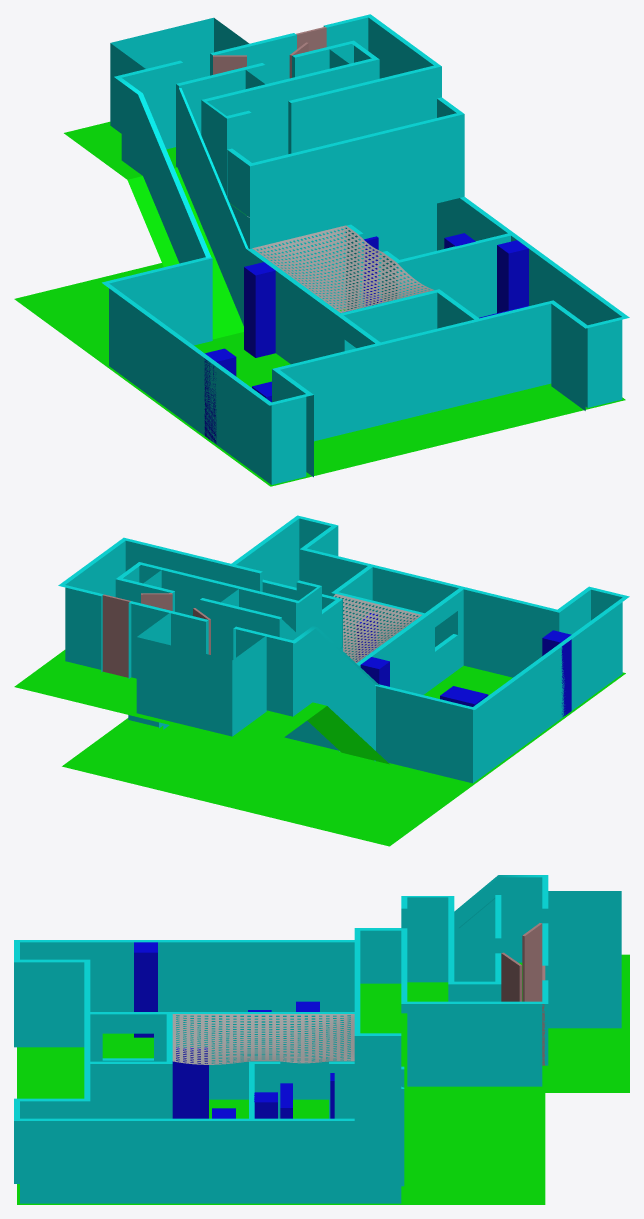
File: spe_map.fbx
3 renders of one model, top to bottom at view 1: azimuth 30°, elevation 25°; view 2: azimuth 150°, elevation 25°; view 3: azimuth 270°, elevation 25°, orthographic. The views are drawn at different scales.
Visible parts, largest first — view 1: pPlane21, polySurface71, polySurface68, pCubeShape111, pCube112; view 2: pPlane21, polySurface71, polySurface68, pCube112, pCubeShape111; view 3: pPlane21, polySurface71, polySurface68, pCubeShape111, pCube112.
Boxes of the visible parts, left/top/right/bottom form: pPlane21: left=102, top=14, right=629, bottom=484; polySurface71: left=14, top=121, right=625, bottom=486; polySurface68: left=252, top=225, right=433, bottom=312; pCubeShape111: left=204, top=233, right=528, bottom=444; pCube112: left=213, top=27, right=326, bottom=78; pPlane21: left=58, top=515, right=629, bottom=783; polySurface71: left=14, top=650, right=625, bottom=846; polySurface68: left=333, top=594, right=421, bottom=663; pCube112: left=102, top=593, right=210, bottom=677; pCubeShape111: left=356, top=613, right=571, bottom=716; pPlane21: left=14, top=875, right=621, bottom=1203; polySurface71: left=17, top=954, right=629, bottom=1204; polySurface68: left=172, top=1014, right=354, bottom=1064; pCubeShape111: left=134, top=942, right=334, bottom=1118; pCube112: left=501, top=923, right=545, bottom=1065.
Bounding box in the file's own units: 746 × 380 × 1049.
